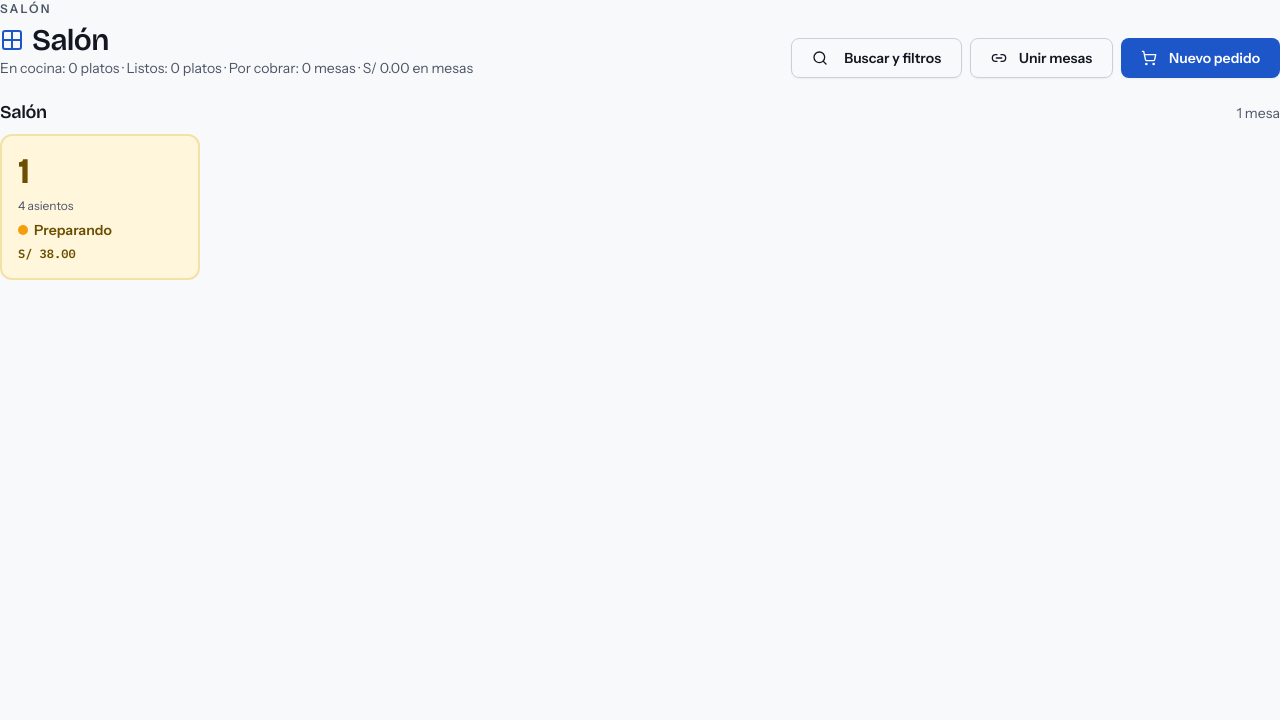
it: pedido inline en el salón › envía a cocina una cuenta en borrador
Click the element with test id "mesa-card-1" at x=100, y=207, box [0,134,200,280]
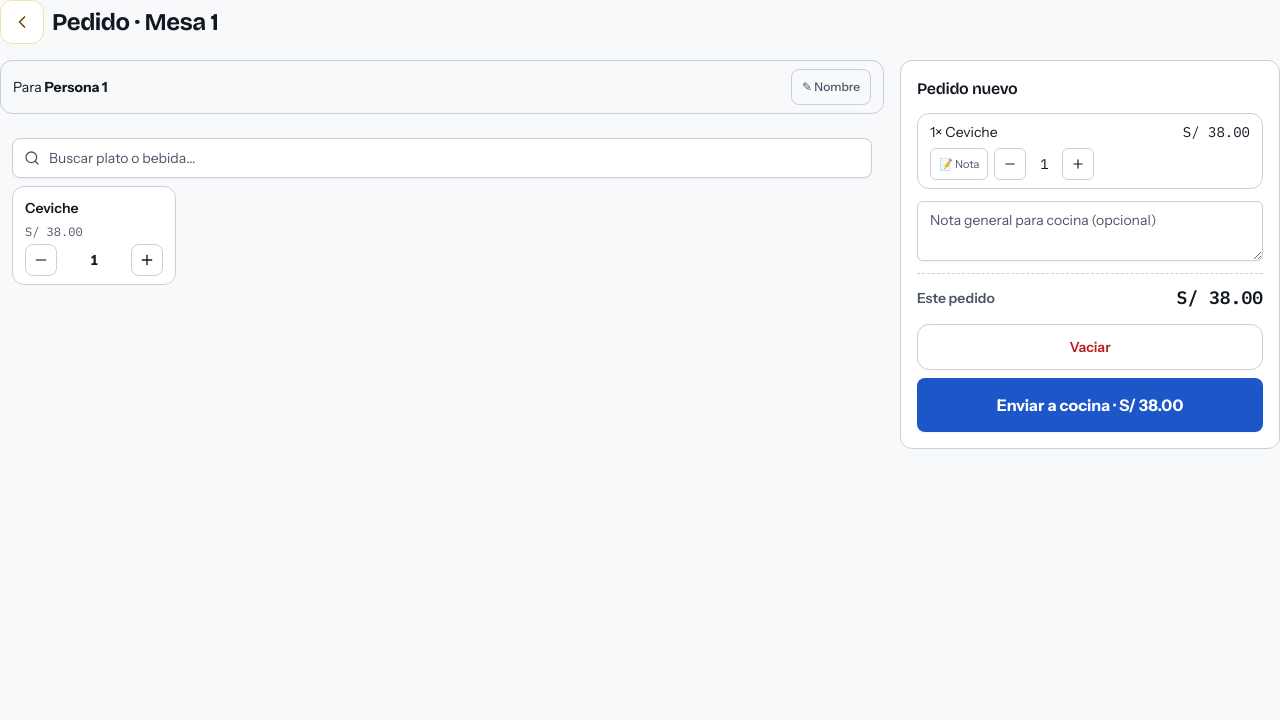
Check: the button with test id "mesa-sheet-enviar-cocina" is shown
Click the button with test id "mesa-sheet-enviar-cocina" at x=1090, y=405, box [917,378,1263,432]
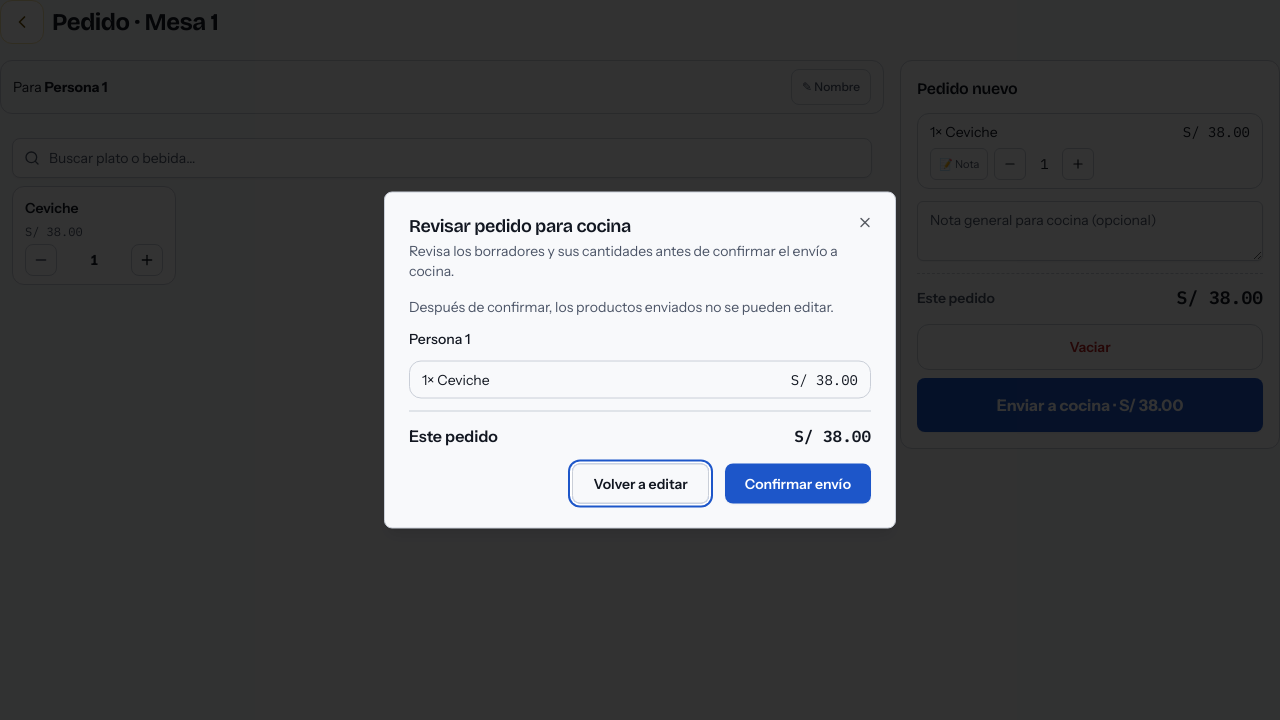
Click the button with test id "mesa-sheet-confirmar-envio" at x=798, y=484, box [725,464,871,504]
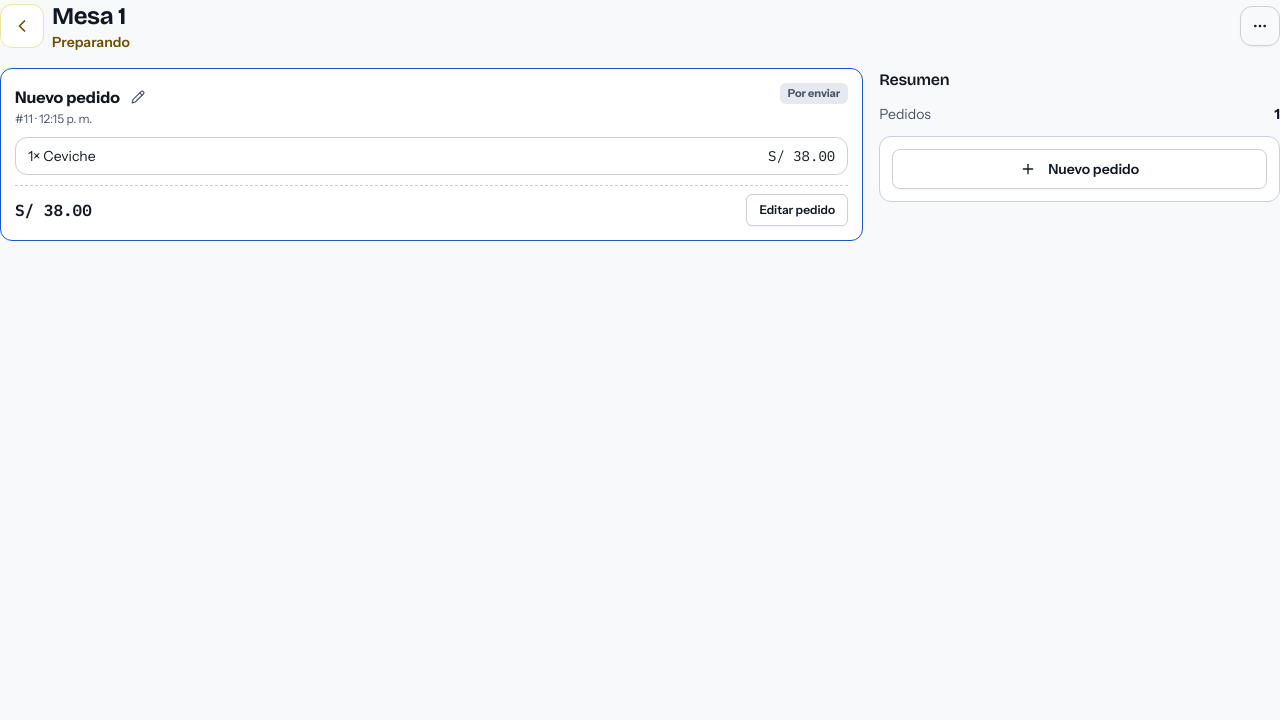
Check: the dialog with test id "mesa-sheet-revision-envio" is gone
